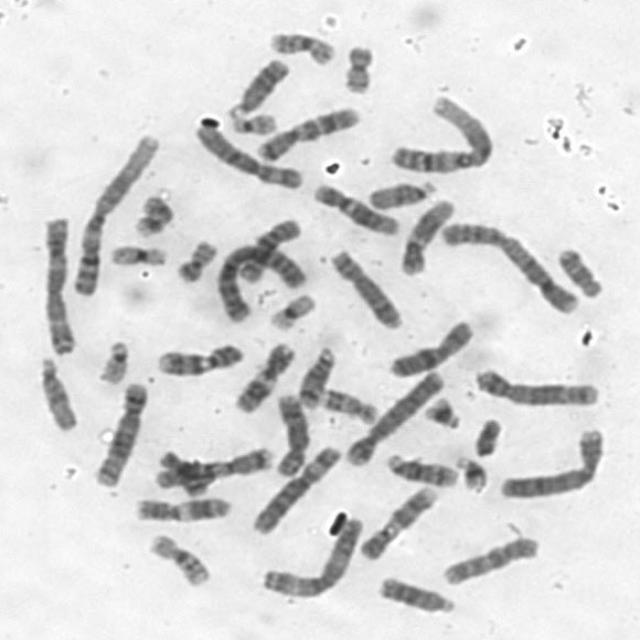A1: (72, 134, 160, 296), (388, 95, 494, 175)
A2: (440, 221, 580, 315), (215, 243, 307, 324)
A3: (262, 516, 364, 599), (43, 216, 75, 356)
B4: (344, 371, 445, 467), (498, 427, 604, 499)
B5: (94, 382, 150, 488), (474, 368, 600, 407)
C10: (442, 536, 540, 584), (238, 217, 304, 284)
C11: (235, 343, 295, 413), (134, 496, 232, 524)
C12: (312, 184, 400, 236), (399, 198, 456, 276)
C6: (252, 445, 342, 535), (195, 122, 304, 190)
C7: (256, 106, 361, 162), (154, 446, 275, 488)
C8: (328, 250, 402, 329), (274, 393, 310, 478)
C9: (359, 486, 439, 561), (155, 344, 244, 376)
D13: (235, 58, 290, 116), (380, 577, 454, 614)
D14: (385, 453, 459, 488), (298, 347, 336, 409)
D15: (40, 357, 77, 432), (366, 179, 438, 210)
E16: (149, 534, 210, 586), (268, 32, 334, 66)
E17: (317, 388, 377, 425), (135, 195, 174, 236)
E18: (158, 448, 207, 498), (558, 248, 602, 298)
F19: (270, 294, 318, 330), (109, 244, 168, 266)
F20: (177, 239, 215, 283), (343, 46, 373, 94)
G21: (453, 455, 488, 494), (423, 397, 460, 430)
G22: (99, 339, 129, 384), (231, 112, 277, 136)
X: (388, 319, 476, 378)
Y: (473, 418, 501, 458)
